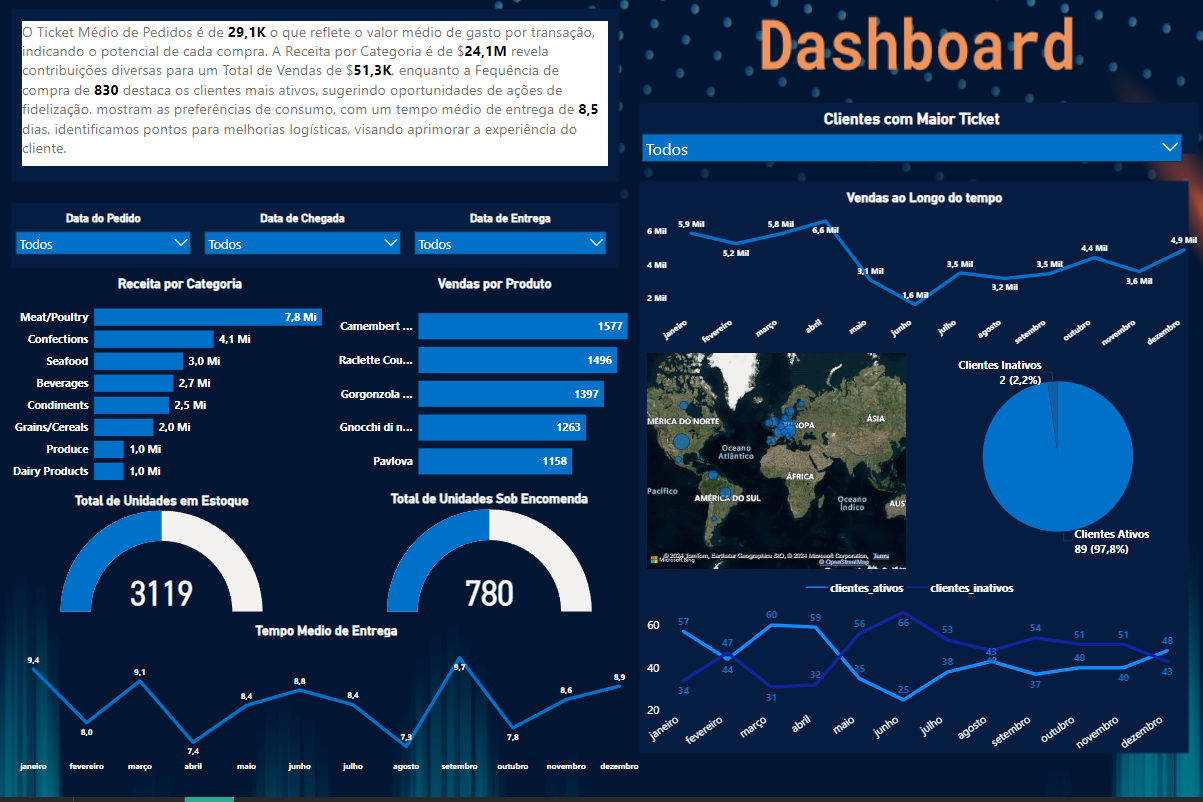

This screenshot's page, from the dashboard's own definition file:
{"tool":"powerbi","page":{"name":"Dashboard","canvas":[1800,1200],"ordinal":0},"visuals":[{"type":"clusteredBarChart","title":"Vendas por Produto","fields":{"Category":["products.product_name","categories.category_name Hierarquia.category_name"],"Y":["products.vendas_por_produto"]},"box":[488.9,425.9,503.7,320.4],"z":0},{"type":"clusteredBarChart","title":"Receita por Categoria","fields":{"Category":["categories.category_name"],"Y":["order_details.receita_por_categoria"]},"box":[20.4,426.7,508.4,321],"z":1000},{"type":"pieChart","fields":{"Y":["orders.clientes_ativos","orders.clientes_inativos"]},"box":[1358,536.6,439.6,315.8],"z":2000},{"type":"lineChart","title":"Tempo Medio de Entrega ","fields":{"Y":["orders.tempo_medio_entrega"],"Category":["orders.order_date.Variation.Hierarquia de datas.Ano","orders.order_date.Variation.Hierarquia de datas.Mês"]},"box":[20.6,941.1,943.1,231.1],"z":3000},{"type":"map","fields":{"Category":["orders.ship_country"],"Size":["products.vendas_por_produto"]},"box":[963.8,536.6,394.2,330.2],"z":4000},{"type":"gauge","title":"Total de Unidades em Estoque","fields":{"Y":["Sum(products.units_in_stock)"]},"box":[20.6,747.1,454,181.6],"z":5000},{"type":"gauge","title":"Total de Unidades Sob Encomenda","fields":{"Y":["Sum(products.units_on_order)"]},"box":[474.7,745,518,183.7],"z":6000},{"type":"slicer","title":"Clientes com Maior Ticket","fields":{"Values":["customers.contact_name"]},"box":[949.9,178.1,821.9,105.8],"z":7000},{"type":"lineChart","title":"Vendas ao Longo do tempo","fields":{"Category":["orders.order_date.Variation.Hierarquia de datas.Ano","orders.order_date.Variation.Hierarquia de datas.Mês"],"Y":["products.vendas_por_produto"]},"box":[963.8,299.2,833.8,251.8],"z":8000},{"type":"lineChart","fields":{"Category":["orders.order_date.Variation.Hierarquia de datas.Ano","orders.order_date.Variation.Hierarquia de datas.Mês"],"Y":["orders.clientes_ativos","orders.clientes_inativos"]},"box":[949.3,866.8,821.4,284.8],"z":9000},{"type":"enlightenDataStoryDDFB78A6143E42CFAFBC50CCF18D978D","fields":{"measure":["order_details.ticket_medio_pedidos","order_details.receita_por_categoria","products.vendas_por_produto","orders.frequencia_pedidos_cliente","orders.tempo_medio_entrega"]},"box":[35.1,43.3,879.2,225],"z":10000},{"type":"slicer","title":"Data do Pedido","fields":{"Values":["orders.order_date"]},"box":[20.6,330.2,280.7,111.4],"z":11000},{"type":"slicer","title":"Data de Chegada","fields":{"Values":["orders.required_date"]},"box":[301.3,330.2,311.6,111.4],"z":12000},{"type":"slicer","title":"Data de Entrega","fields":{"Values":["orders.shipped_date"]},"box":[612.9,330.2,305.4,97],"z":13000}]}

Visuals, with their boxes in screenshot pixels (x1, y1, x2, y2), scaled from the page's 1800x1200 canvas onto the 1203x802 screenshot:
"Vendas por Produto" clusteredBarChart: (327,285,663,499)
"Receita por Categoria" clusteredBarChart: (14,285,353,500)
pieChart - orders.clientes_ativos x orders.clientes_inativos: (908,359,1201,570)
"Tempo Medio de Entrega " lineChart: (14,629,644,783)
map - orders.ship_country x products.vendas_por_produto: (644,359,908,579)
"Total de Unidades em Estoque" gauge: (14,499,317,621)
"Total de Unidades Sob Encomenda" gauge: (317,498,663,621)
"Clientes com Maior Ticket" slicer: (635,119,1184,190)
"Vendas ao Longo do tempo" lineChart: (644,200,1201,368)
lineChart - orders.order_date.Variation.Hierarquia de datas.Ano x orders.order_date.Variation.Hierarquia de datas.Mês: (634,579,1183,770)
enlightenDataStoryDDFB78A6143E42CFAFBC50CCF18D978D - order_details.ticket_medio_pedidos x order_details.receita_por_categoria: (23,29,611,179)
"Data do Pedido" slicer: (14,221,201,295)
"Data de Chegada" slicer: (201,221,410,295)
"Data de Entrega" slicer: (410,221,614,286)
